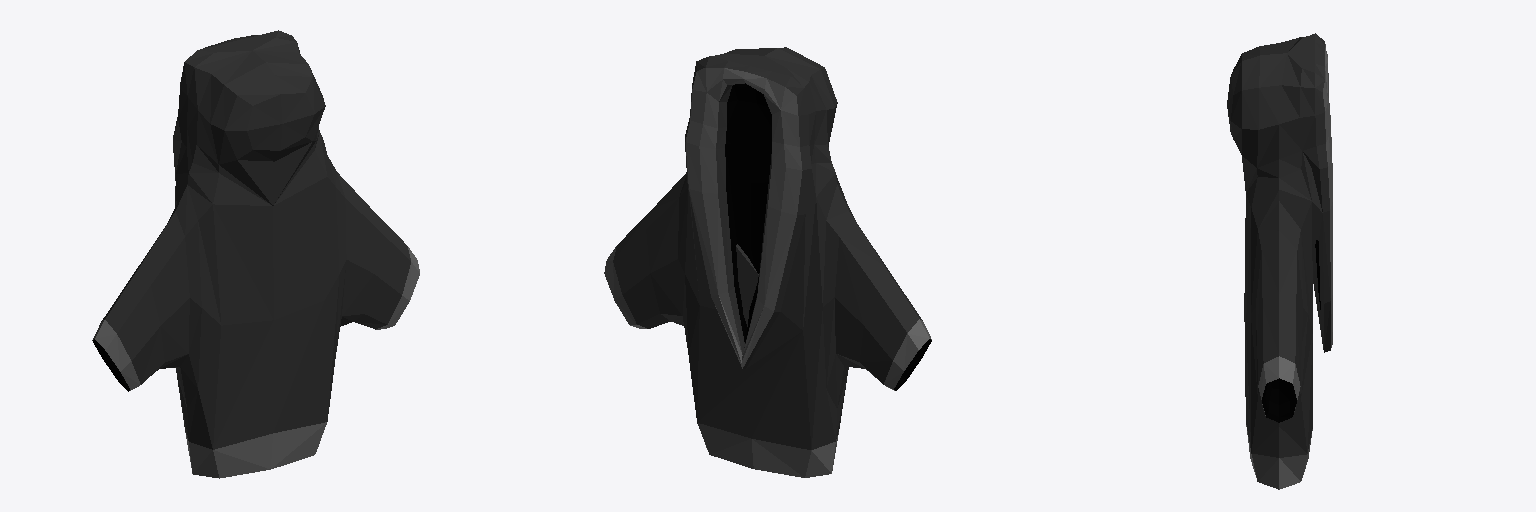
Rendered from MonkCloth.obj.
3 views of the same model, side by side, from view 1: azimuth 30°, elevation 25°; view 2: azimuth 150°, elevation 25°; view 3: azimuth 270°, elevation 25° (orthographic).
Parts seen in each view (by area): view 1: Cube7; view 2: Cube7; view 3: Cube7.
Boxes of the visible parts, x1,y1,x2,y2 form: Cube7: [92, 30, 419, 478]; Cube7: [604, 47, 931, 477]; Cube7: [1227, 33, 1332, 489].
Size of the model in its own units: 4.69 by 5.63 by 1.34.